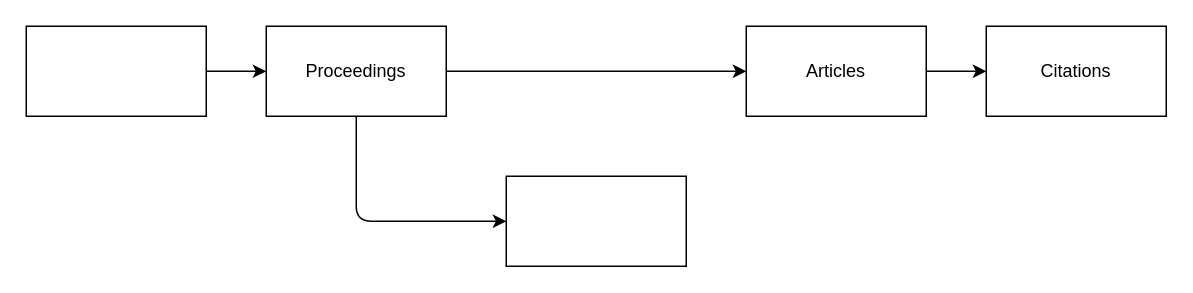
This 1193x293 diagram has some shape labels left out. The centre of each missing label's shape, as x and y in pixels:
"PC Members" goes at (x=595, y=220).
"Top conferences" goes at (x=115, y=70).
